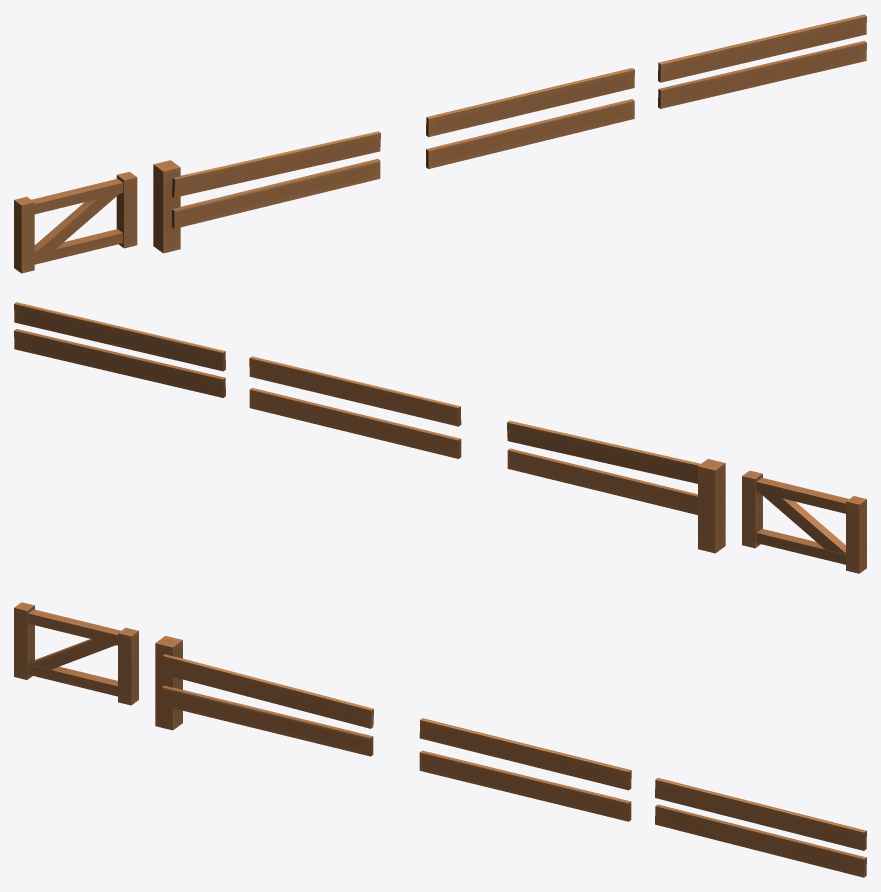
Rendered from zabor.fbx.
3 views of the same model, one above another, from view 1: azimuth 30°, elevation 25°; view 2: azimuth 150°, elevation 25°; view 3: azimuth 330°, elevation 25° (orthographic).
Parts seen in each view (by area): view 1: Object002, Object001, Object003, Box008, Object004; view 2: Object002, Object001, Object003, Box008, Object004; view 3: Object002, Object003, Object001, Box008, Object004.
Boxes of the visible parts, left/top/right/bottom form: Object002: left=426, top=68, right=634, bottom=168; Object001: left=658, top=14, right=866, bottom=108; Object003: left=172, top=131, right=380, bottom=228; Box008: left=14, top=171, right=137, bottom=273; Object004: left=153, top=160, right=180, bottom=253; Object002: left=249, top=356, right=461, bottom=458; Object001: left=14, top=302, right=225, bottom=397; Object003: left=507, top=420, right=700, bottom=514; Box008: left=742, top=470, right=866, bottom=573; Object004: left=698, top=459, right=725, bottom=553; Object002: left=419, top=718, right=631, bottom=821; Object003: left=161, top=654, right=373, bottom=756; Object001: left=655, top=778, right=866, bottom=877; Box008: left=14, top=602, right=138, bottom=705; Object004: left=155, top=635, right=182, bottom=730.
Size of the model in its own units: 388 by 36 by 9.77.
